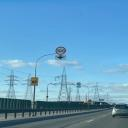speed_limit_100: (54, 45, 68, 55)
